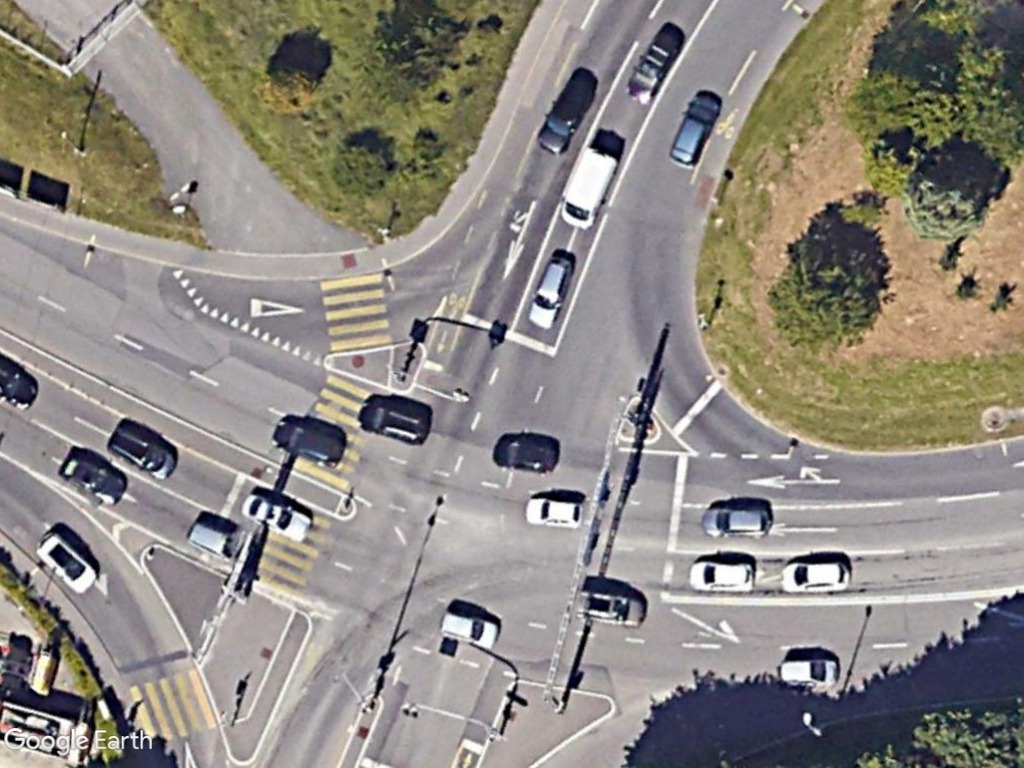car: (665, 89, 724, 172), (31, 530, 99, 597), (238, 491, 315, 546), (527, 248, 576, 333), (437, 607, 502, 653), (686, 556, 757, 596), (697, 504, 775, 540), (777, 559, 852, 596), (185, 517, 245, 561), (775, 656, 842, 692), (520, 493, 585, 529)
truck: (559, 142, 618, 233)
